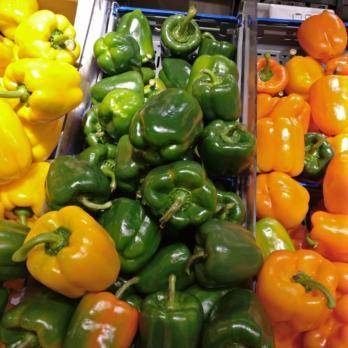Capsicum: (113, 10, 240, 348), (260, 54, 348, 348), (2, 131, 109, 348), (0, 0, 81, 123), (296, 6, 348, 57)
